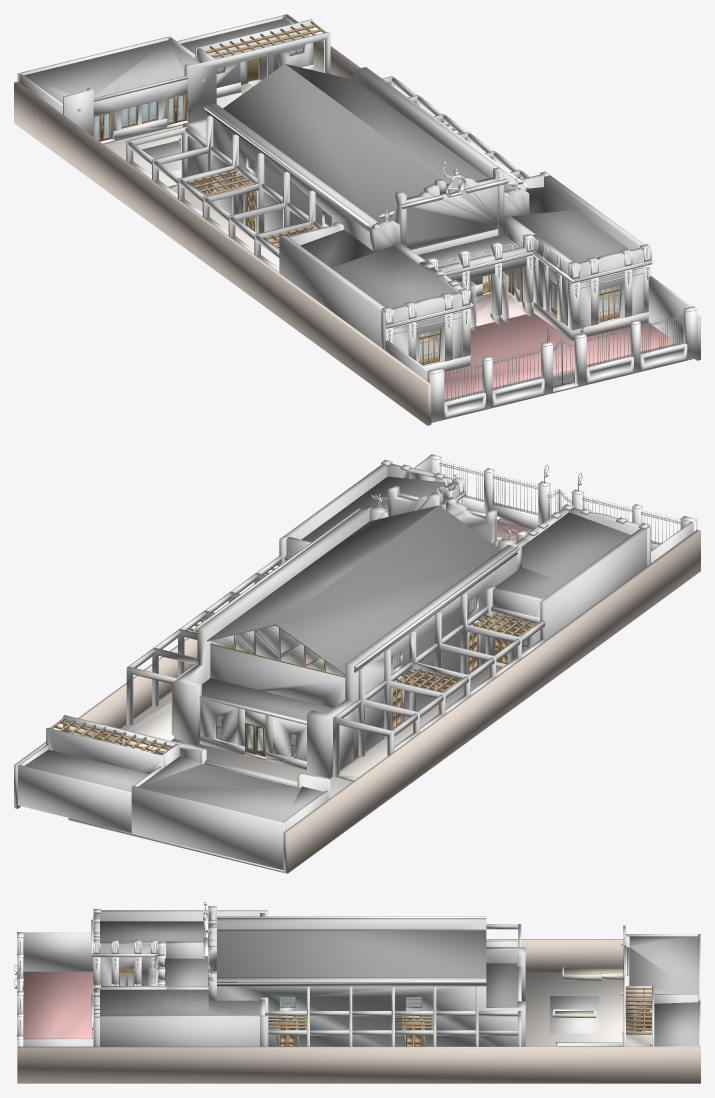
File: cristoforo.glb
3 renders of one model, top to bottom at view 1: azimuth 30°, elevation 25°; view 2: azimuth 150°, elevation 25°; view 3: azimuth 270°, elevation 25°, orthographic. The views are drawn at different scales.
Parts seen in each view (by area): view 1: Cristoforo colombo; view 2: Cristoforo colombo; view 3: Cristoforo colombo.
Part boxes in pixels (box(x1,y1,x2,y2)): Cristoforo colombo: box(14, 14, 700, 425); Cristoforo colombo: box(14, 454, 700, 873); Cristoforo colombo: box(14, 902, 700, 1083).
Bounding box in the file's own units: 21.63 × 11.27 × 56.92.
29 materials, 5 textured.
